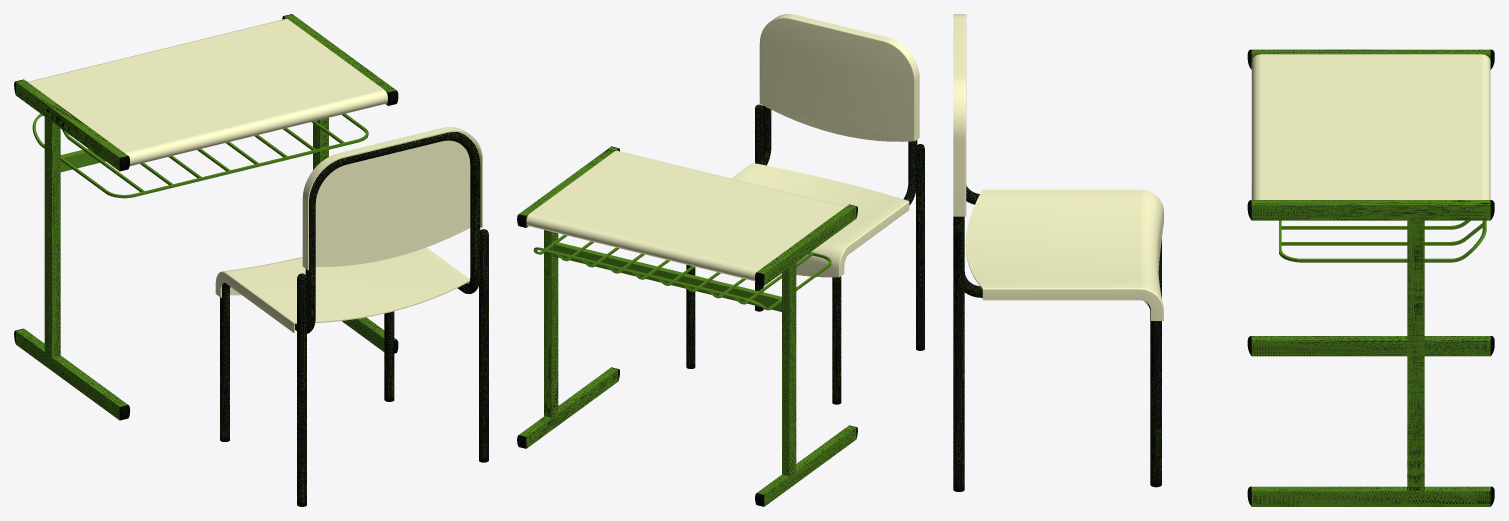
Rendered from mesas_alunos.dae.
3 views of the same model, side by side, from view 1: azimuth 30°, elevation 25°; view 2: azimuth 150°, elevation 25°; view 3: azimuth 270°, elevation 25° (orthographic). The views are drawn at different scales.
Parts seen in each view (by area): view 1: group_5, group_2, group_15 (×3), group_1, group_3, group_6; view 2: group_5, group_2, group_15 (×3), group_3, group_1, group_6; view 3: group_5, group_3, group_15 (×2), group_1, group_2, group_6.
Boxes of the visible parts, box(x1,y1,x2,y2) form: group_5: box(27, 18, 387, 166); group_2: box(302, 127, 482, 270); group_15 (×3): box(16, 14, 396, 420); group_1: box(220, 132, 488, 502); group_3: box(215, 247, 469, 332); group_6: box(32, 113, 368, 198); group_5: box(526, 150, 845, 281); group_2: box(759, 14, 919, 141); group_15 (×3): box(519, 147, 856, 506); group_3: box(731, 163, 909, 277); group_1: box(686, 104, 924, 400); group_6: box(533, 235, 831, 310); group_5: box(1251, 54, 1490, 199); group_3: box(965, 189, 1163, 320); group_15 (×2): box(1251, 49, 1490, 506); group_1: box(953, 185, 1161, 486); group_2: box(953, 14, 966, 216); group_6: box(1279, 220, 1486, 262).
Size of the model in its own units: 30.46 by 44.85 by 35.75.
